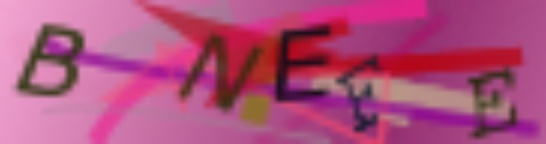B: (14, 21, 89, 100)
E: (269, 19, 337, 106), (465, 69, 520, 139)
F: (336, 52, 382, 133)
N: (177, 31, 264, 113)
